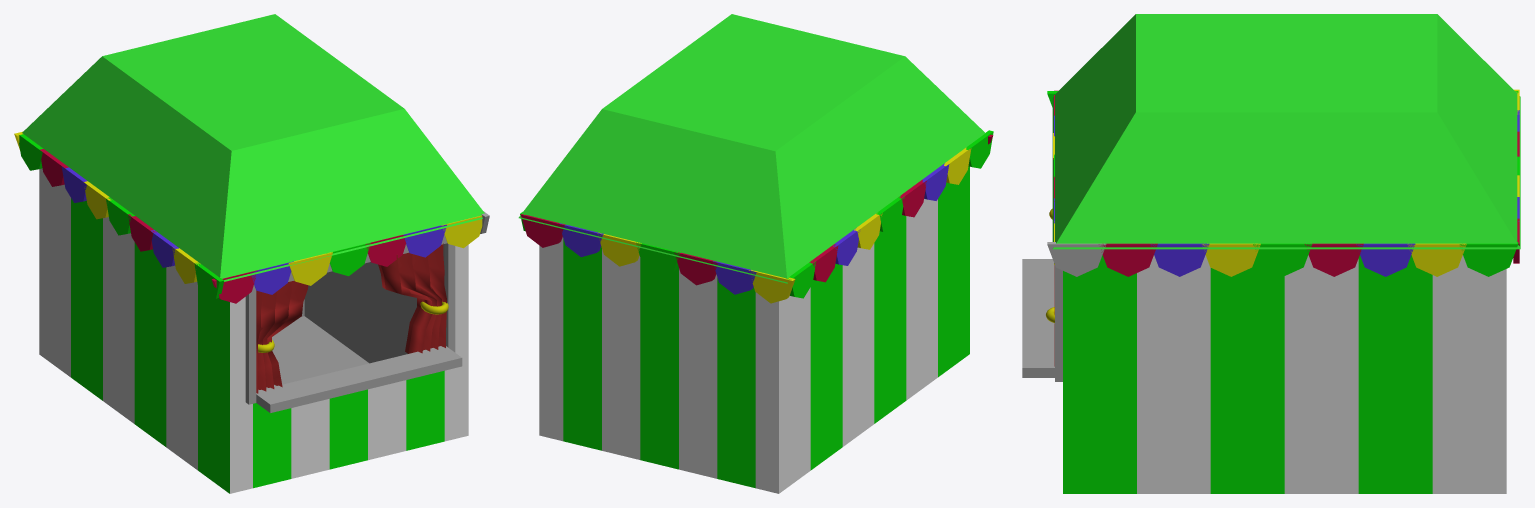
Rendered from TeatroVerde3.fbx.
The picture shows the model from 3 angles, left to right: view 1: azimuth 30°, elevation 25°; view 2: azimuth 150°, elevation 25°; view 3: azimuth 270°, elevation 25°; orthographic projection. The views are drawn at different scales.
Visible parts, largest first — view 1: Techo1, Escenario, Fondo, R_Curtain, L_Curtain, pCylinder30, pCylinder31, pCylinder33, pCylinder29, pCylinder32, pCylinder34, pCylinder28 (+9 smaller); view 2: Escenario, Techo1, pCylinder27, pCylinder21, pCylinder24, pCylinder25, pCylinder26, pCylinder23, pCylinder22, pCylinder16, pCylinder14, pCylinder18 (+6 smaller); view 3: Escenario, Techo1, pCylinder1, pCylinder9, pCylinder4, pCylinder2, pCylinder6, pCylinder8, pCylinder5, pCylinder7, pCylinder3.
Boxes of the visible parts, x1,y1,x2,y2 form: Techo1: [22, 14, 484, 281]; Escenario: [39, 168, 468, 493]; Fondo: [258, 244, 444, 390]; R_Curtain: [378, 243, 446, 353]; L_Curtain: [256, 281, 308, 393]; pCylinder30: [288, 252, 332, 285]; pCylinder31: [403, 224, 446, 257]; pCylinder33: [326, 242, 370, 276]; pCylinder29: [250, 261, 293, 294]; pCylinder32: [441, 215, 482, 248]; pCylinder34: [365, 235, 406, 266]; pCylinder28: [211, 270, 257, 303]; Escenario: [539, 166, 969, 493]; Techo1: [518, 14, 985, 283]; pCylinder27: [749, 270, 795, 303]; pCylinder21: [520, 214, 565, 247]; pCylinder24: [636, 242, 680, 275]; pCylinder25: [674, 252, 718, 285]; pCylinder26: [713, 261, 756, 294]; pCylinder23: [597, 232, 641, 266]; pCylinder22: [559, 223, 603, 257]; pCylinder16: [809, 244, 838, 282]; pCylinder14: [876, 195, 904, 233]; pCylinder18: [899, 180, 926, 217]; Escenario: [1022, 255, 1506, 493]; Techo1: [1052, 14, 1520, 249]; pCylinder1: [1047, 242, 1106, 276]; pCylinder9: [1459, 242, 1518, 276]; pCylinder4: [1202, 243, 1260, 276]; pCylinder2: [1099, 243, 1157, 276]; pCylinder6: [1305, 243, 1363, 276]; pCylinder8: [1407, 243, 1466, 276]; pCylinder5: [1253, 243, 1312, 276]; pCylinder7: [1356, 243, 1415, 276]; pCylinder3: [1151, 243, 1209, 276].
Bounding box in the file's own units: 15.98 × 17.42 × 21.66.
